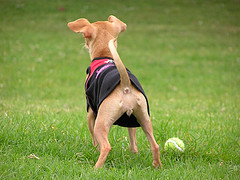tennis ball: (162, 134, 188, 158)
